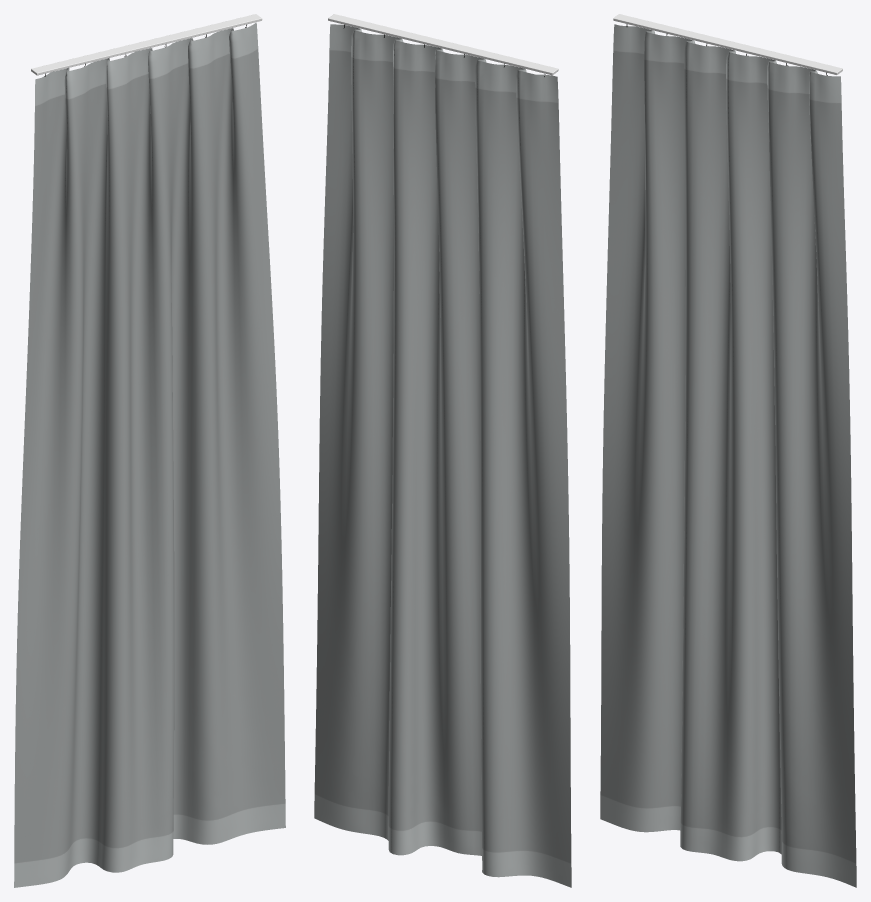
The model's file is curtain_01_01.001.fbx.
3 views of the same model, side by side, from view 1: azimuth 30°, elevation 25°; view 2: azimuth 150°, elevation 25°; view 3: azimuth 330°, elevation 25° (orthographic).
Visible parts, largest first — view 1: curtain_01_01.001; view 2: curtain_01_01.001; view 3: curtain_01_01.001.
Part boxes in pixels (left/top/right/bottom): curtain_01_01.001: left=14, top=14, right=285, bottom=887; curtain_01_01.001: left=314, top=14, right=571, bottom=887; curtain_01_01.001: left=600, top=14, right=856, bottom=887.
Bounding box in the file's own units: 76.39 × 224 × 10.51.
Materials: 1 (1 with a texture image).
